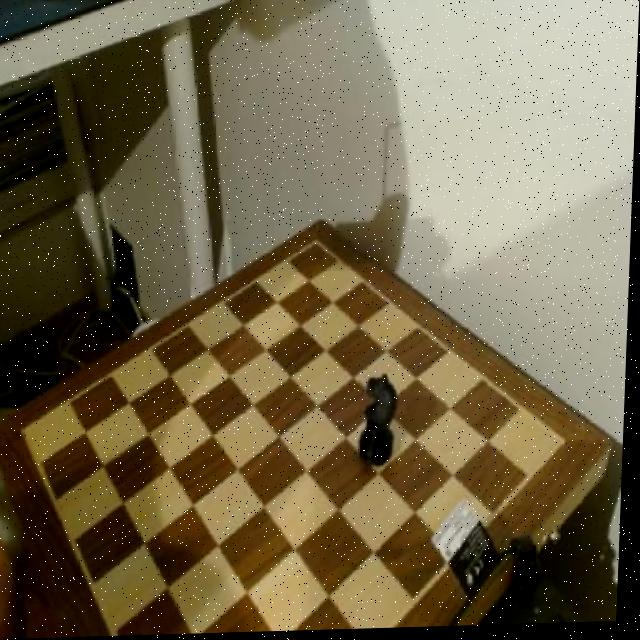black-king: (358, 372, 404, 475)
